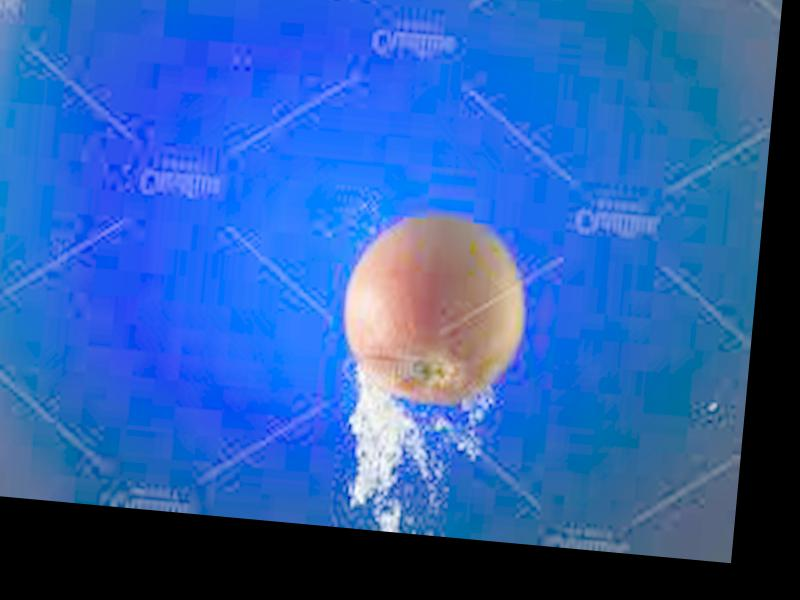Tomato: (337, 212, 534, 411)
